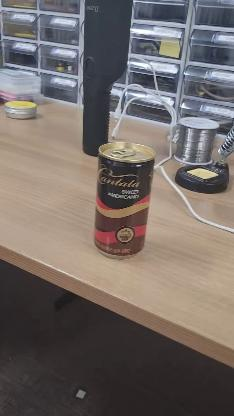Can: (96, 138, 150, 260)
